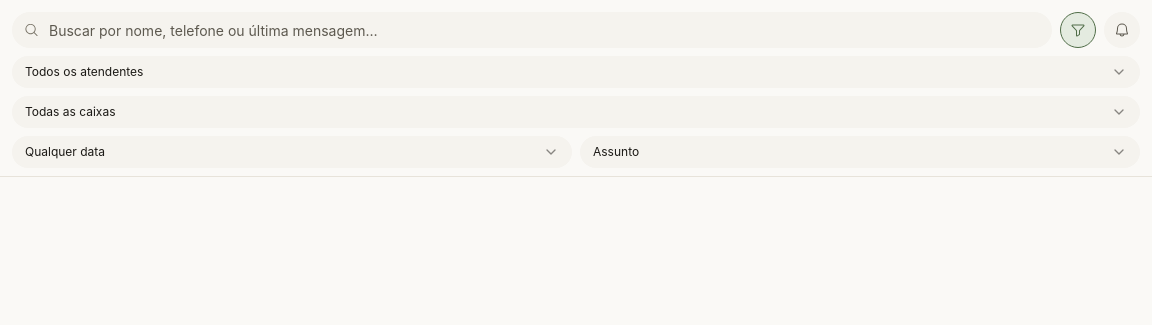
Scenario: PERÍODO e ASSUNTO só existem em Fechadas › sem assunto escolhido o gatilho diz só "Assunto" — por extenso ele saía cortado pela seta
Click the dropdown named "Filtrar por assunto".
click(616, 152)  # box [580,136,1140,168]
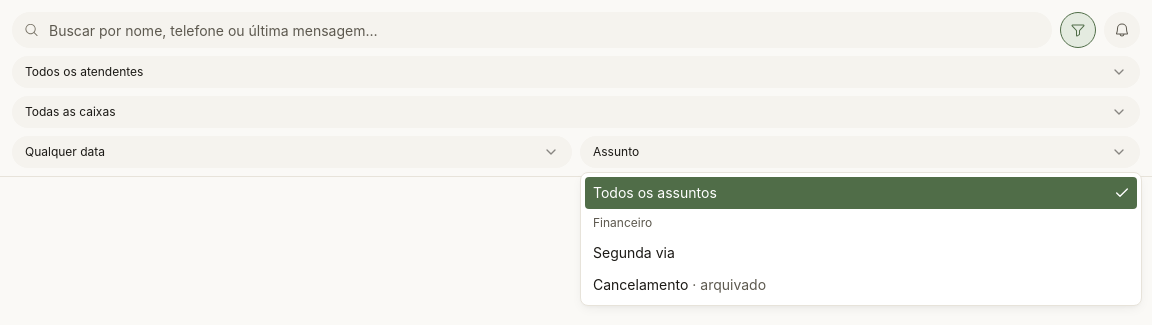
expect the option "Todos os assuntos" is shown: met, box [585,177,1137,209]
